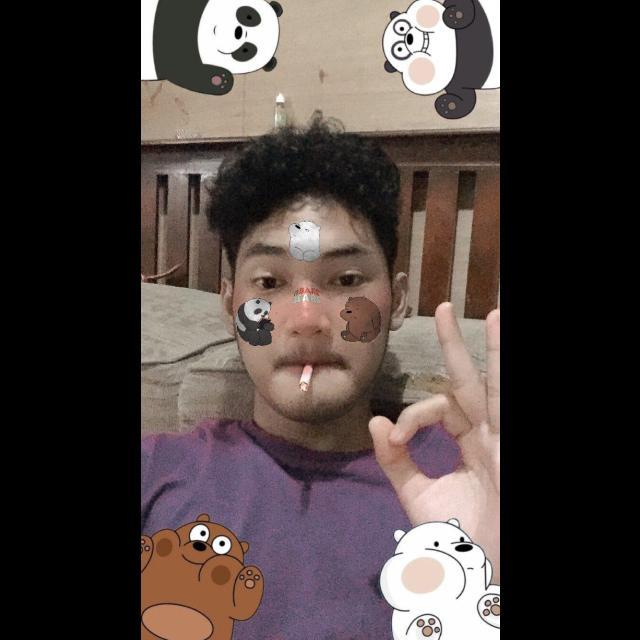rokok: (296, 364, 316, 396)
